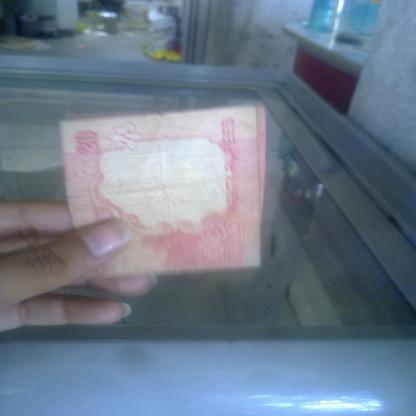Old20Back: (58, 104, 266, 276)
